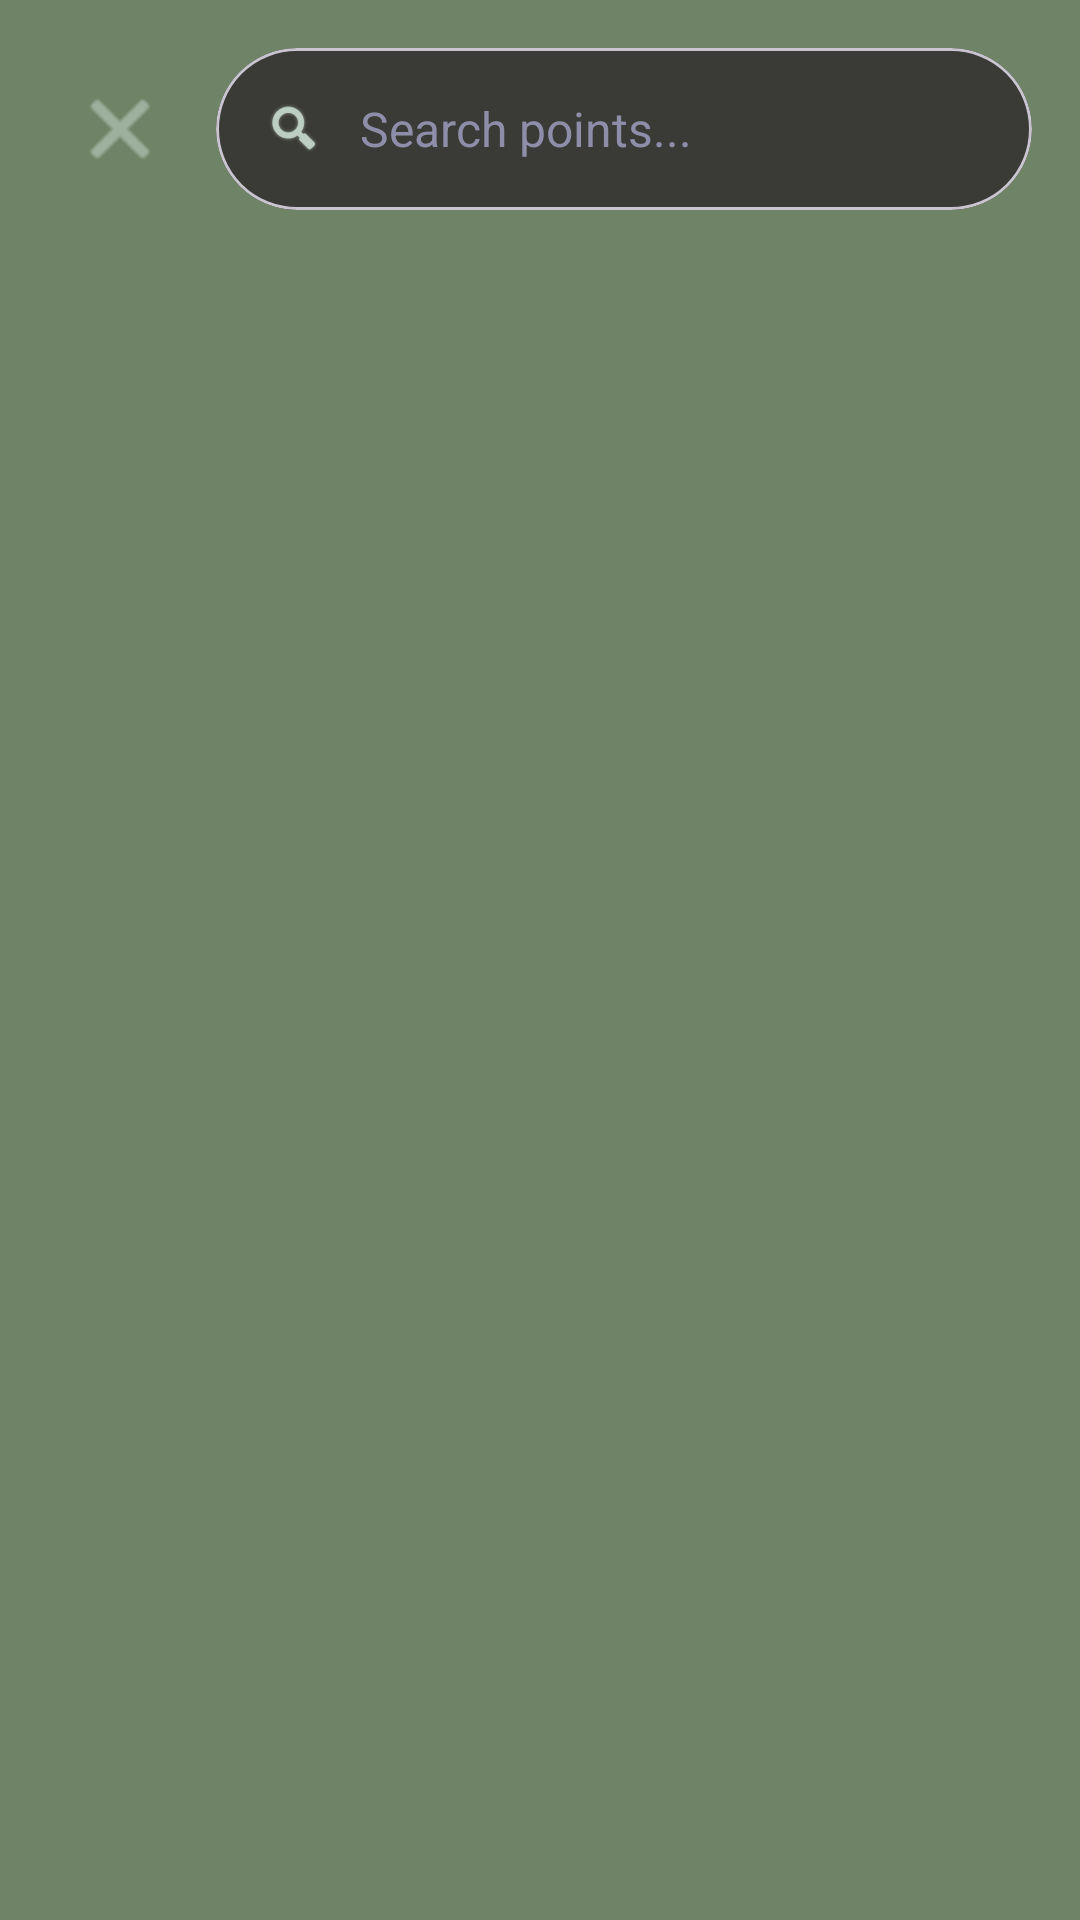

Named icons in this screenshot (1080px×1920px) and their centers, point (x, y):
close clear cancel: point (120, 129)
search category: point (294, 128)
